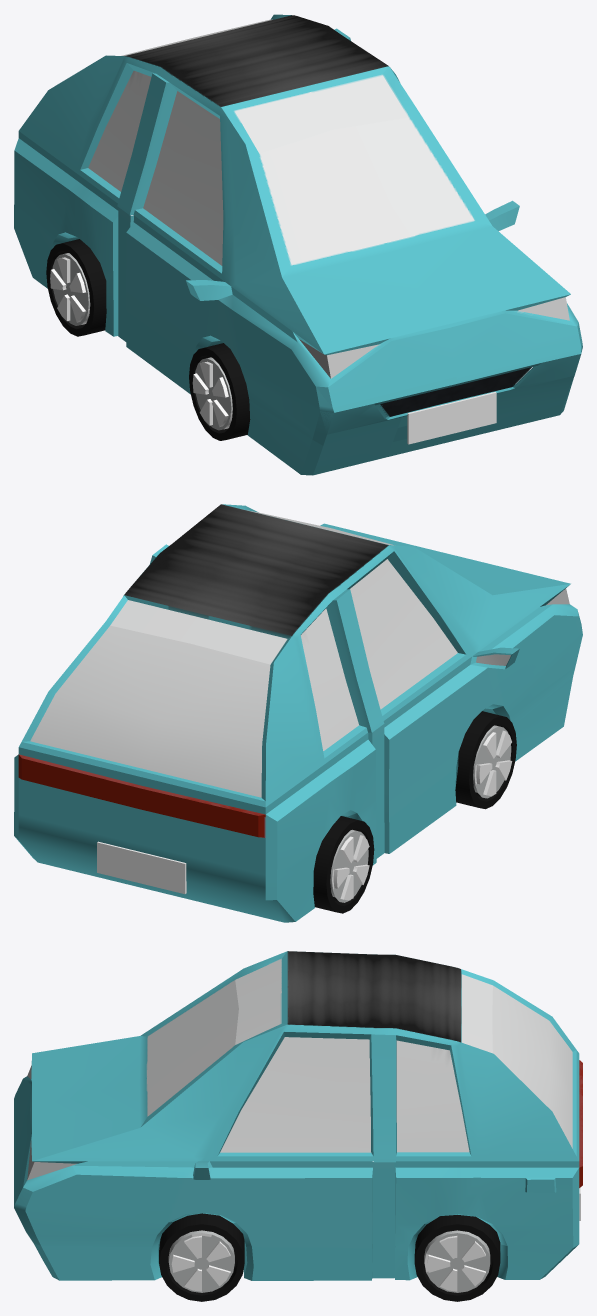
File: EV_WHOLE.glb
3 views of the same model, one above another, from view 1: azimuth 30°, elevation 25°; view 2: azimuth 150°, elevation 25°; view 3: azimuth 270°, elevation 25° (orthographic). The views are drawn at different scales.
Size of the model in its own units: 1.98 by 1.64 by 3.34.
7 materials, 7 textured.
